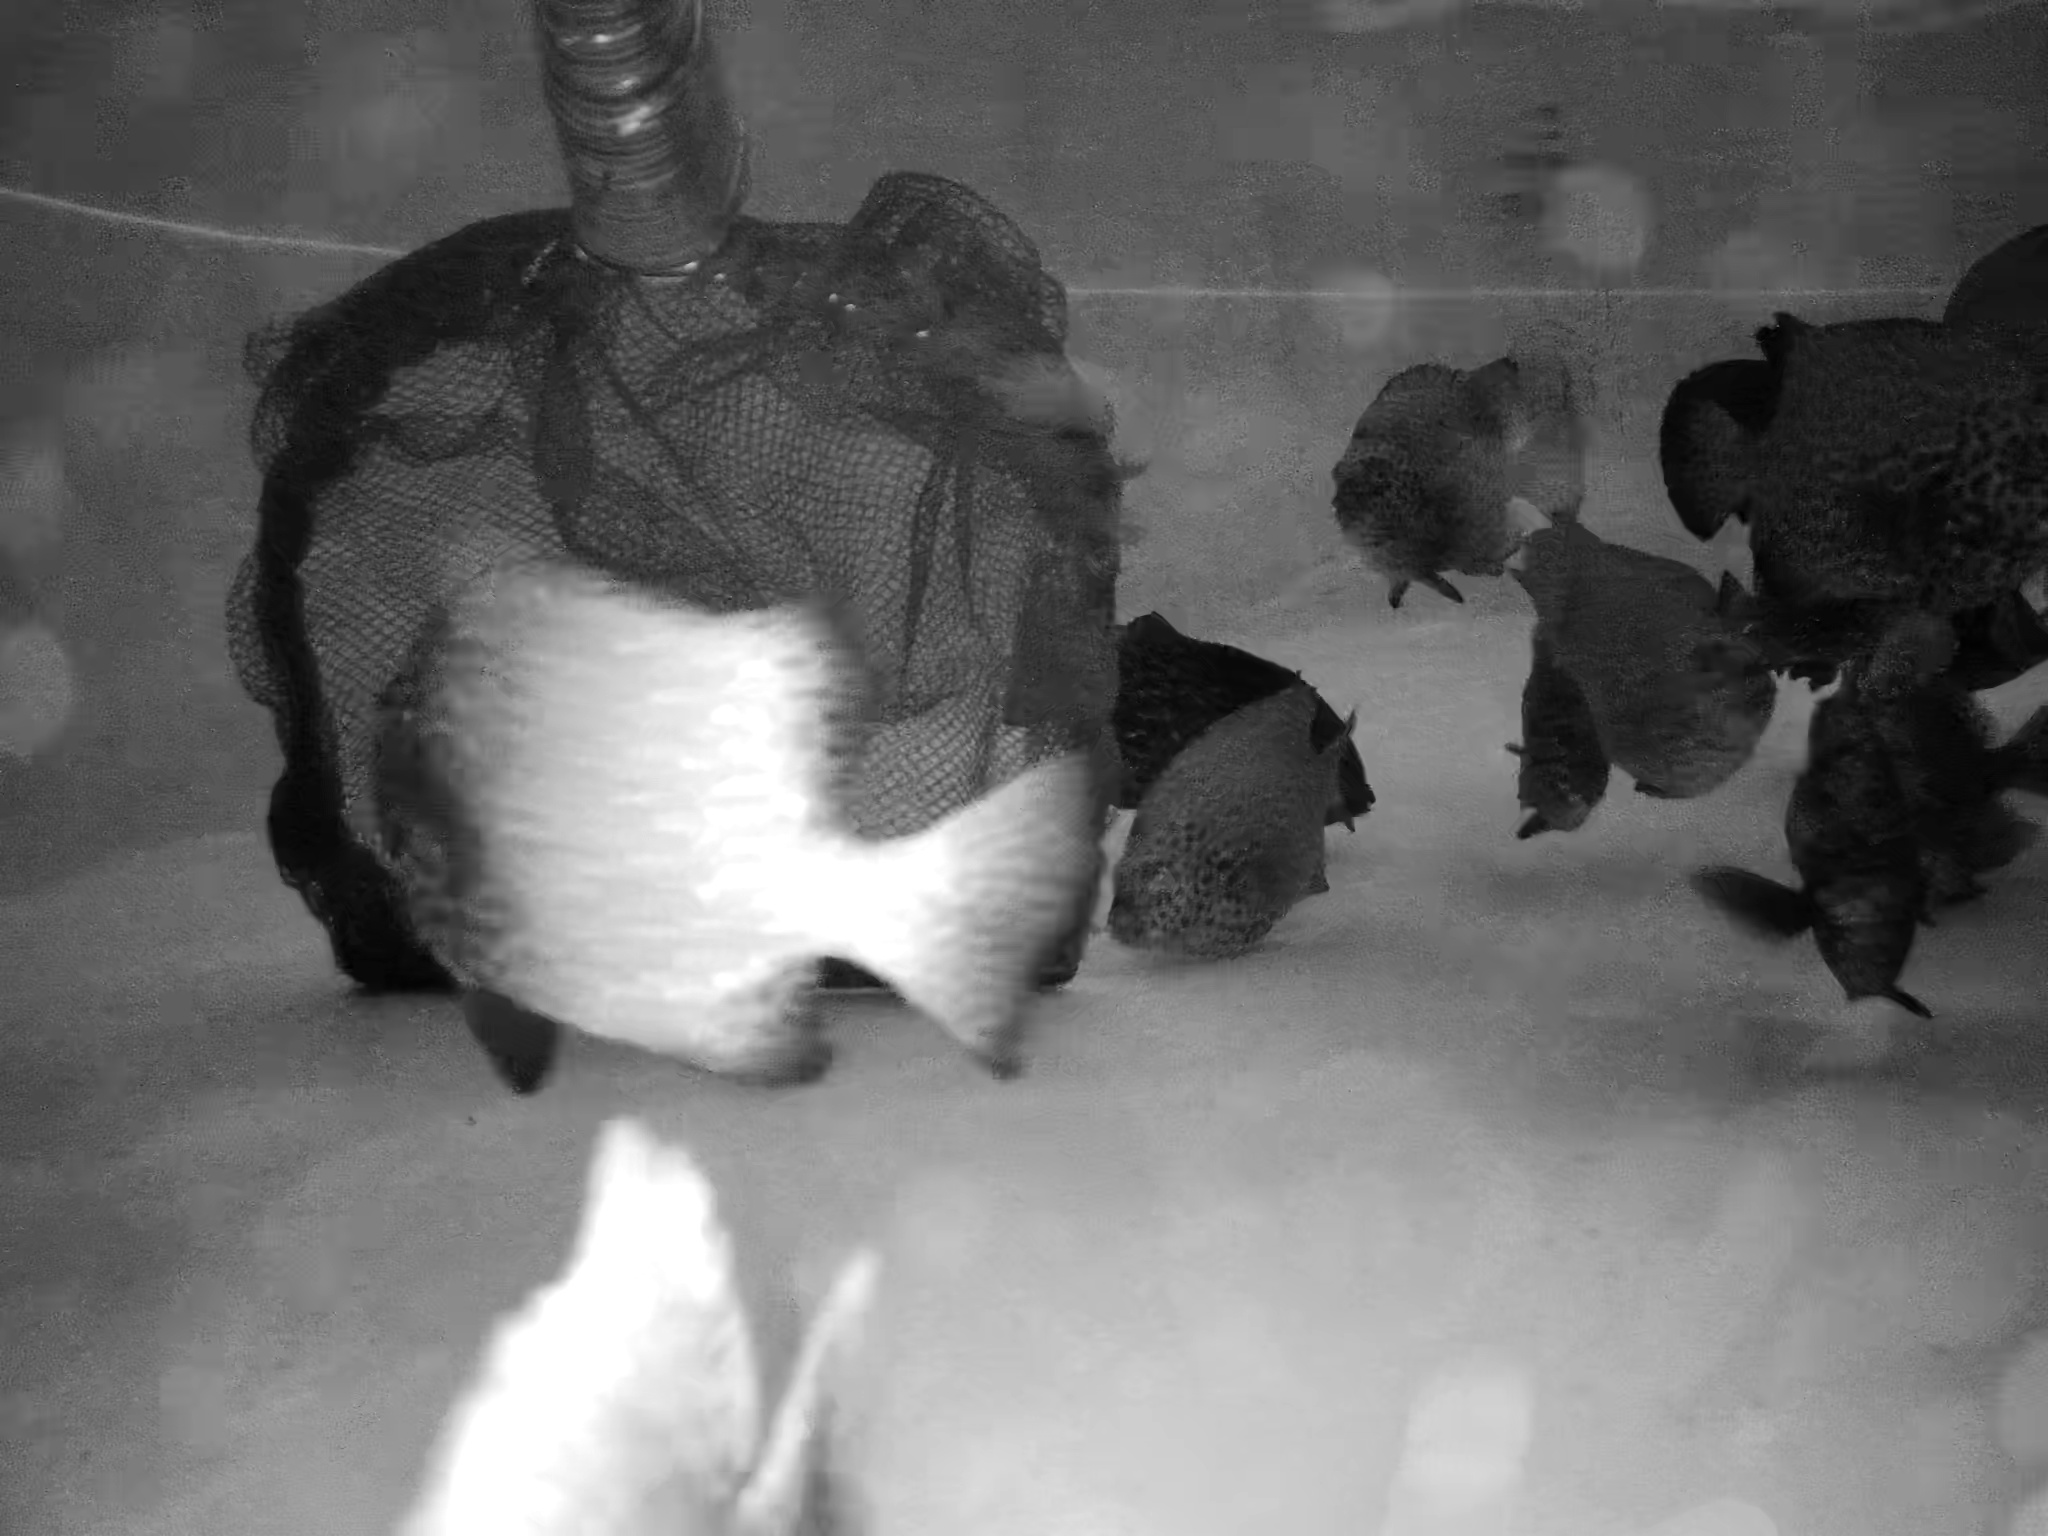fish: (340, 566, 1089, 1092), (366, 1129, 972, 1536), (1756, 658, 2009, 1029), (1113, 708, 1398, 992), (1092, 599, 1387, 841), (1722, 302, 2048, 513), (1529, 515, 1784, 779), (1330, 365, 1642, 557), (1645, 331, 1887, 515), (1800, 544, 2048, 699), (1513, 658, 1634, 865)
